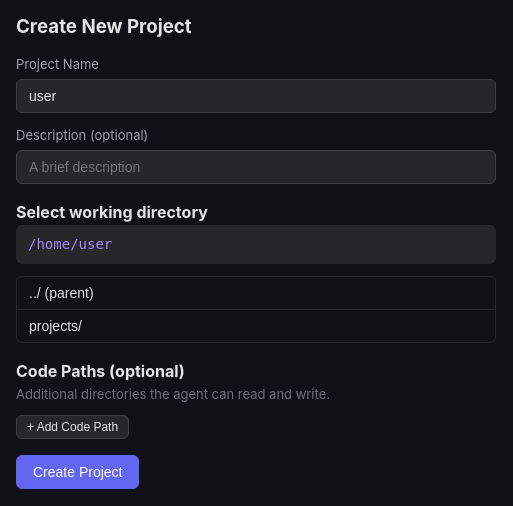
Scenario: ProjectWizard › navigates into subdirectory on click
Click the button "projects/".
click(54, 326)  # box [17, 310, 495, 342]
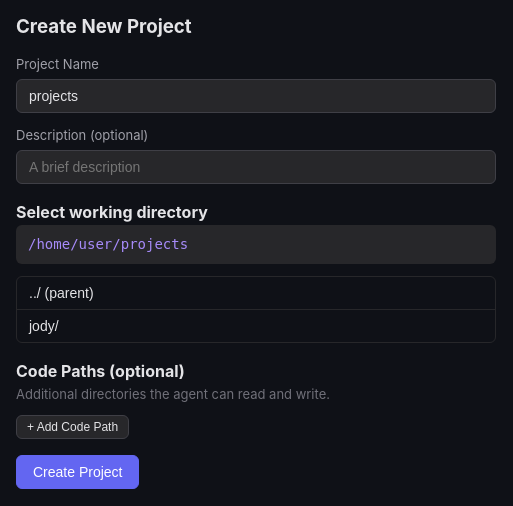
Expected: the text "/home/user/projects" is shown, [28, 236, 188, 252]
Expected: the button "jody/" is shown, [17, 310, 495, 342]
